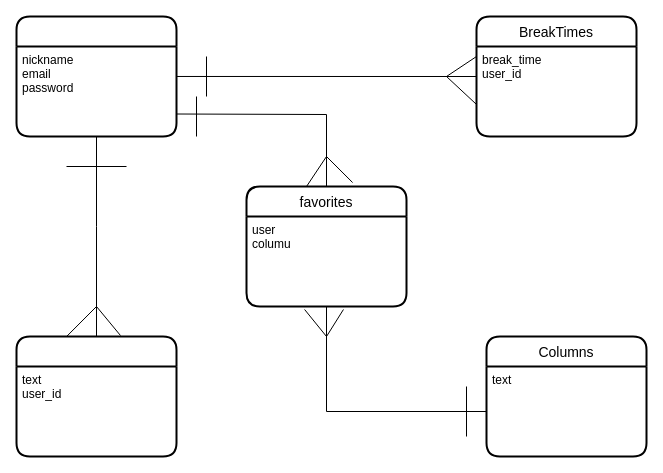
This 663x473 diagram has some shape labels left out. The box of each missing label's shape, as (x1, y1, x2, y2) in pixels:
NotTodoLists: (15, 335, 177, 457)
Users: (15, 15, 177, 137)
